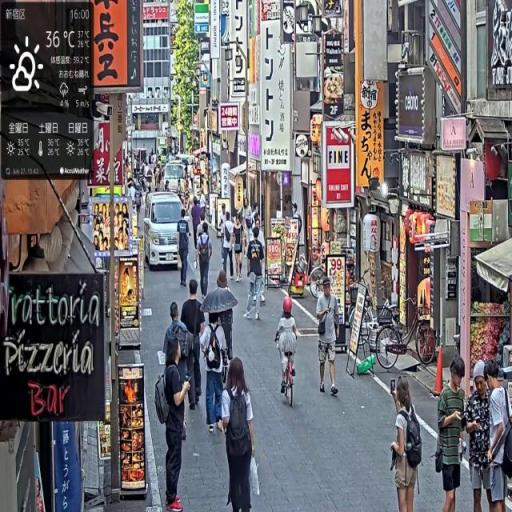person: (218, 356, 258, 512), (436, 357, 469, 510), (464, 365, 495, 512), (391, 376, 424, 512), (484, 358, 512, 512), (201, 312, 230, 435), (181, 277, 206, 412), (316, 276, 342, 397), (196, 221, 214, 302), (177, 208, 193, 291), (232, 214, 247, 283)
